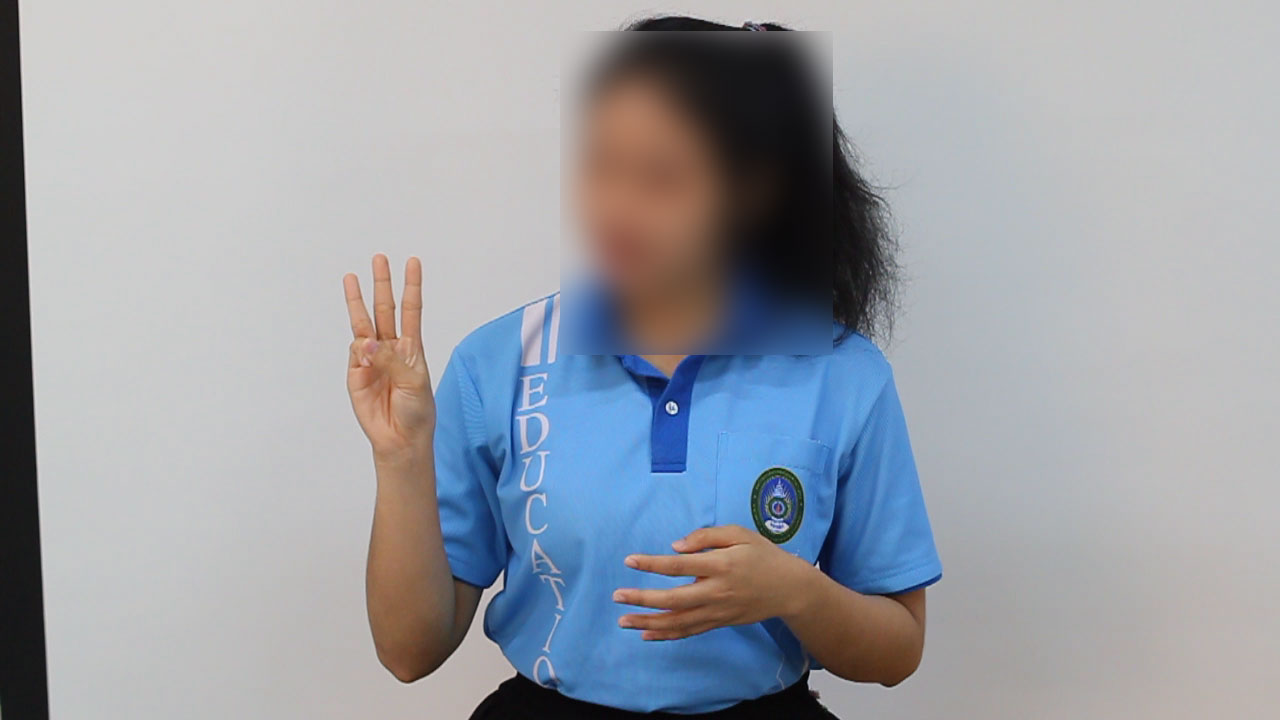wor: (334, 242, 441, 463)
